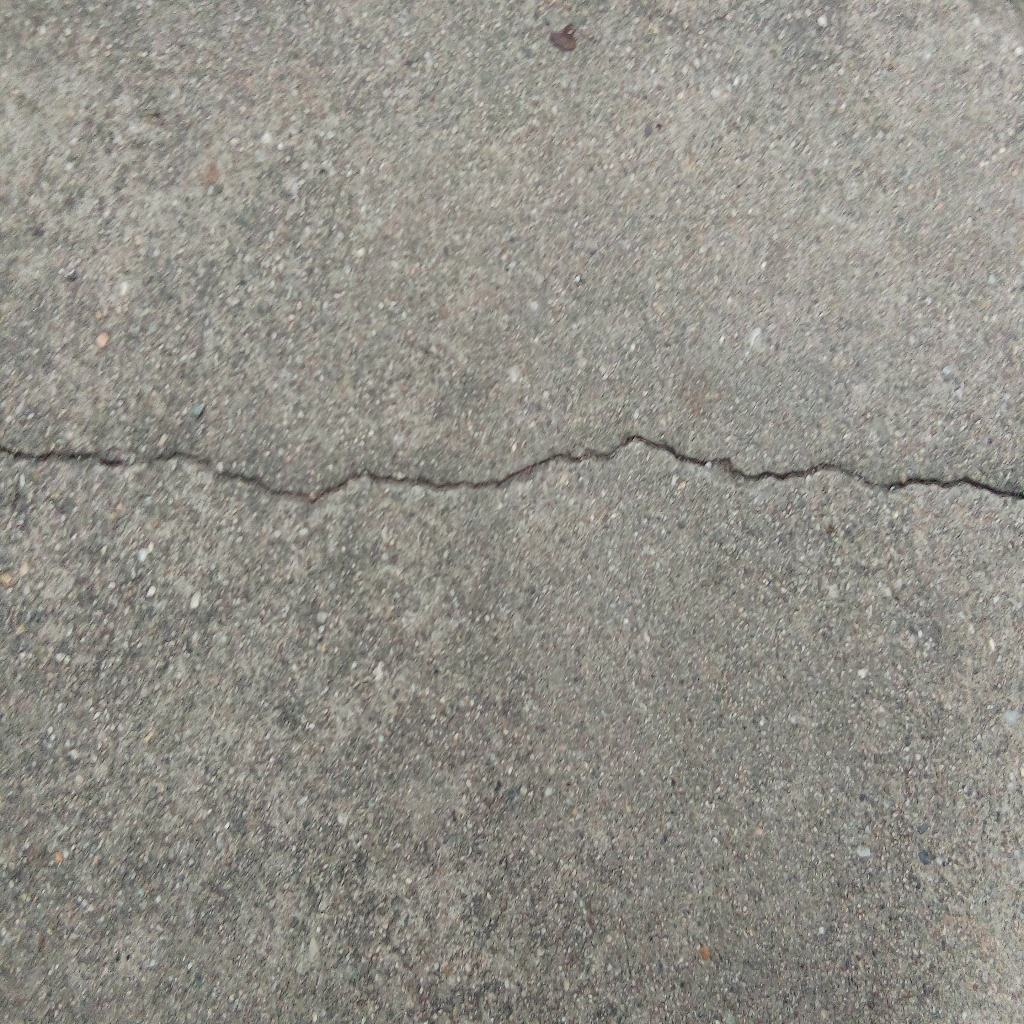Crack: (1, 430, 1024, 507)
